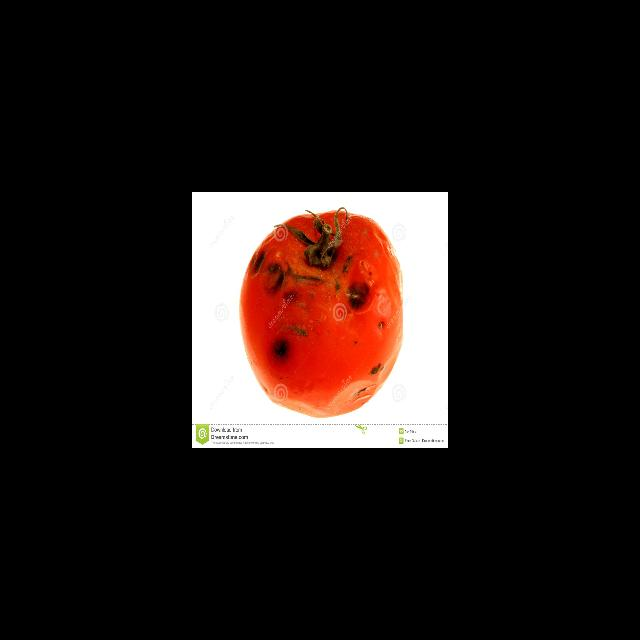tomato: (237, 204, 413, 427)
